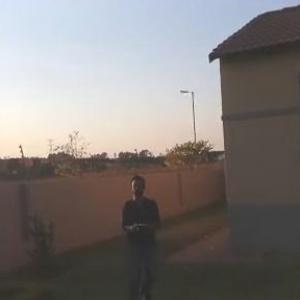follow: (112, 167, 166, 299)
